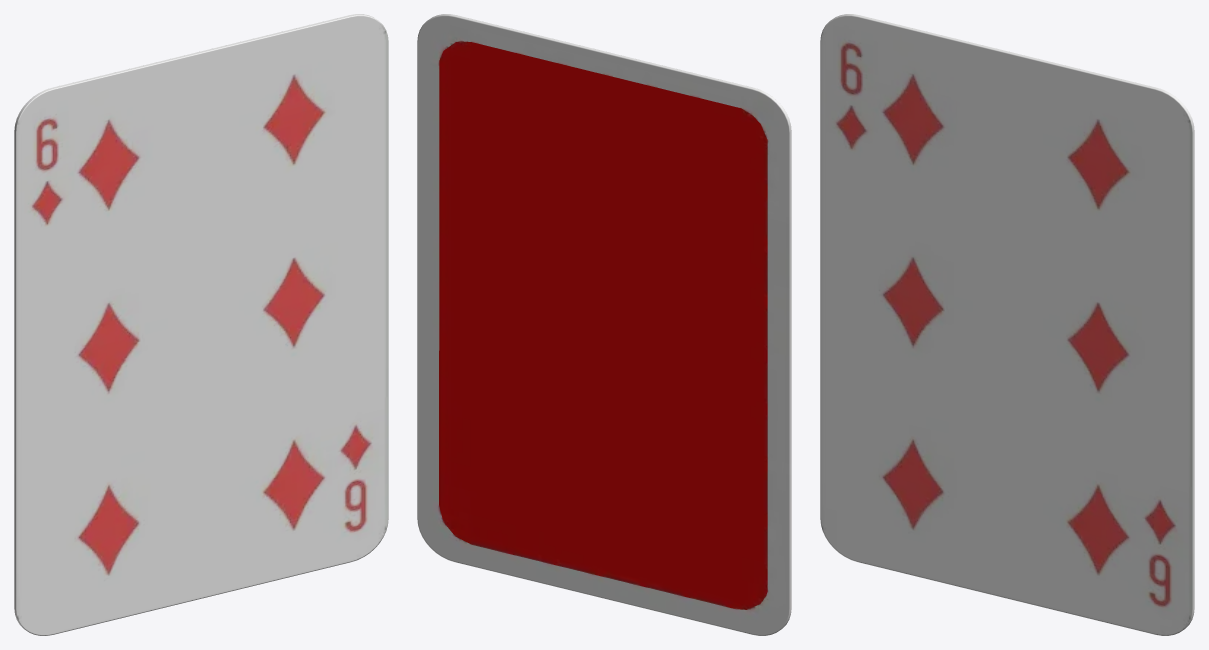
File: diamonds_6-transformed.glb
The picture shows the model from 3 angles, left to right: view 1: azimuth 30°, elevation 25°; view 2: azimuth 150°, elevation 25°; view 3: azimuth 330°, elevation 25°; orthographic projection.
Visible parts, largest first — view 1: defaultMaterial.030; view 2: defaultMaterial.030; view 3: defaultMaterial.030.
Boxes of the visible parts, x1,y1,x2,y2 form: defaultMaterial.030: [14, 14, 388, 635]; defaultMaterial.030: [417, 14, 791, 635]; defaultMaterial.030: [820, 14, 1194, 635].
Size of the model in its own units: 0.1408 by 0.1972 by 0.00111.
1 material, 1 textured.
